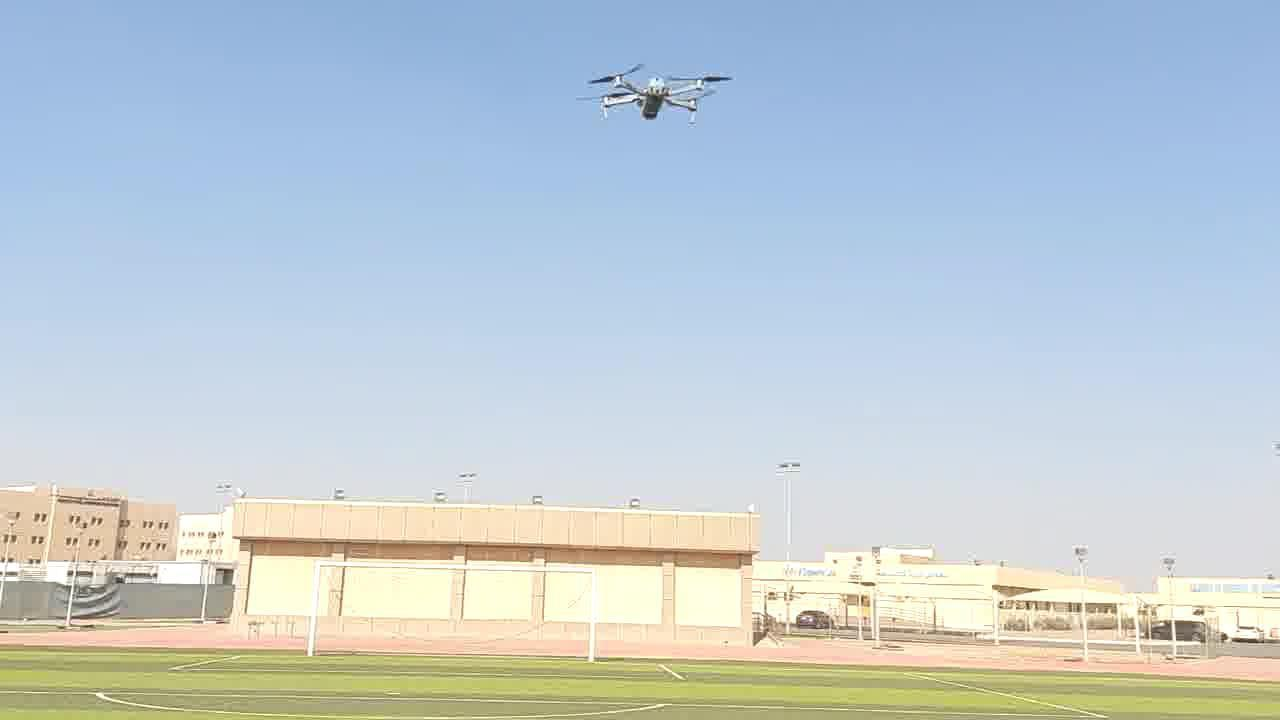drone: (575, 63, 735, 128)
